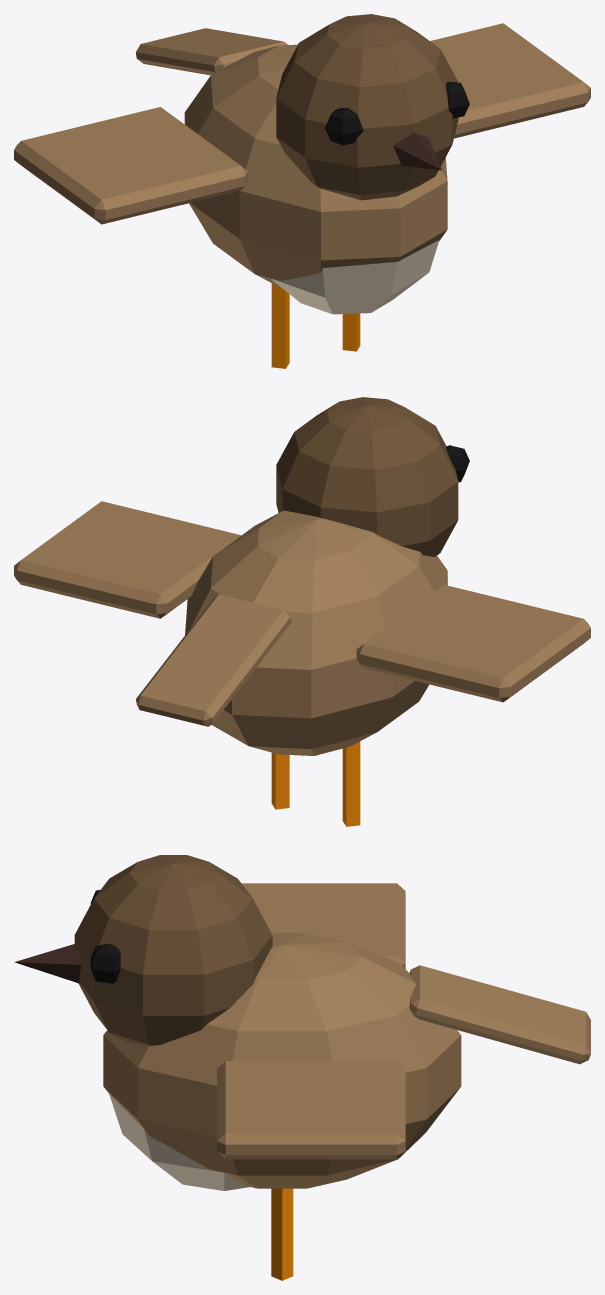
File: spatz.glb
3 views of the same model, one above another, from view 1: azimuth 30°, elevation 25°; view 2: azimuth 150°, elevation 25°; view 3: azimuth 270°, elevation 25° (orthographic). The views are drawn at different scales.
Visible parts, largest first — view 1: body-m, head-m, wing-0-m, wing-1-m, feet; view 2: body-m, head-m, wing-0-m, wing-1-m, feet; view 3: body-m, head-m, wing-1-m, wing-0-m, feet.
Part boxes in pixels (x1,y1,x2,y2): body-m: (135,28,447,314); head-m: (276,14,469,200); wing-0-m: (14,107,248,224); wing-1-m: (430,23,590,138); feet: (271,283,360,368); body-m: (135,510,447,755); head-m: (276,397,469,556); wing-0-m: (356,585,590,702); wing-1-m: (14,501,240,618); feet: (271,741,360,826); body-m: (103,933,590,1190); head-m: (14,855,272,1045); wing-1-m: (217,1061,405,1159); wing-0-m: (241,883,405,968); feet: (271,1188,293,1280).
Size of the model in its own units: 0.84 by 0.6 by 0.7957.
